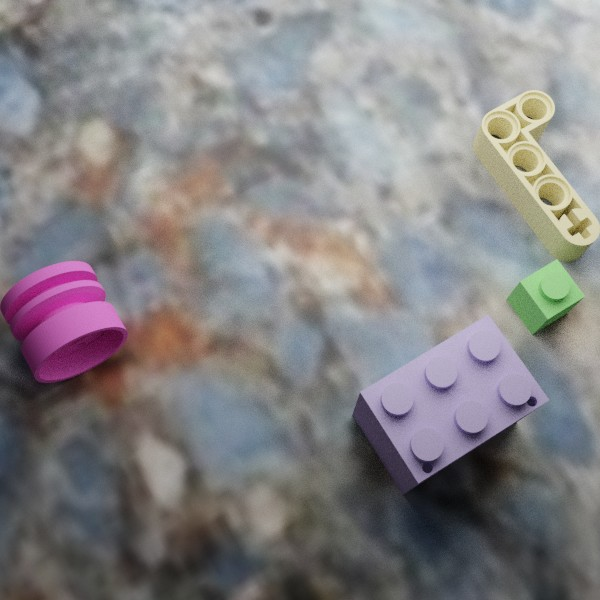lego: (352, 314, 549, 494), (473, 90, 600, 261), (0, 261, 127, 382), (506, 259, 585, 335)
